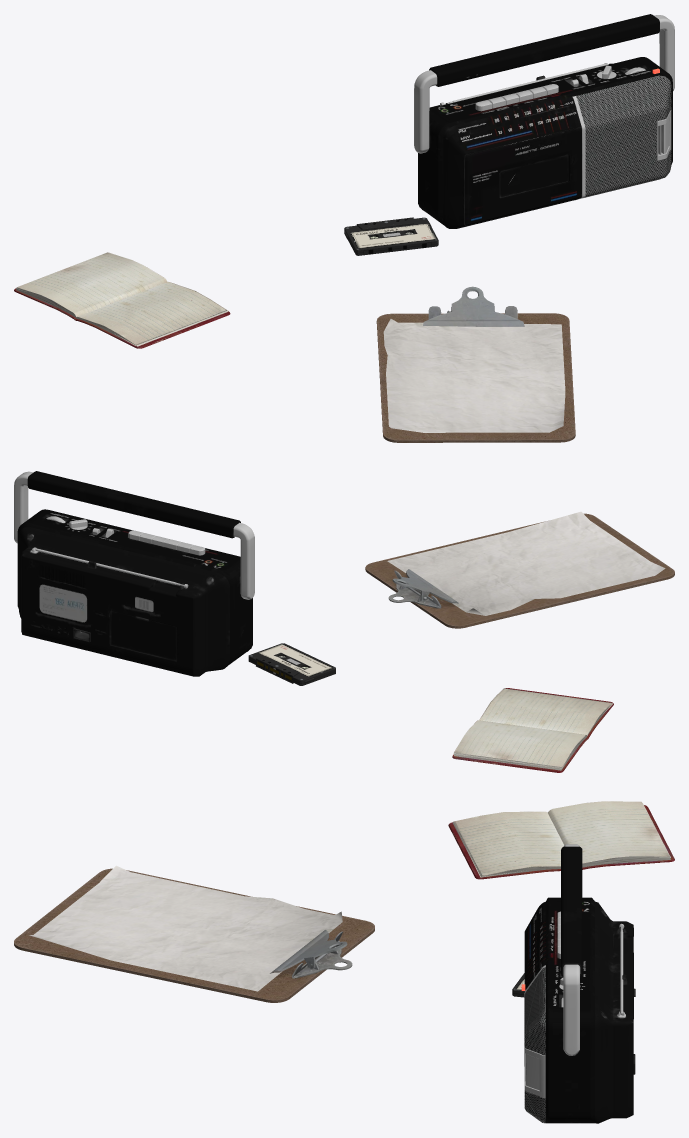
The model's file is chair_office_props.glb.
3 renders of one model, top to bottom at view 1: azimuth 30°, elevation 25°; view 2: azimuth 150°, elevation 25°; view 3: azimuth 270°, elevation 25°, orthographic. The views are drawn at different scales.
Visible parts, largest first — view 1: CHAIR_Recorder, CHAIR_Clipboard, CHAIR_Notebook, CHAIR_Cassette; view 2: CHAIR_Recorder, CHAIR_Clipboard, CHAIR_Notebook, CHAIR_Cassette; view 3: CHAIR_Clipboard, CHAIR_Recorder, CHAIR_Notebook.
Part boxes in pixels (bbox=[...]): CHAIR_Recorder: bbox=[414, 14, 674, 228]; CHAIR_Clipboard: bbox=[376, 286, 575, 442]; CHAIR_Notebook: bbox=[14, 252, 230, 348]; CHAIR_Cassette: bbox=[344, 217, 438, 255]; CHAIR_Recorder: bbox=[14, 471, 254, 676]; CHAIR_Clipboard: bbox=[365, 511, 674, 628]; CHAIR_Notebook: bbox=[452, 688, 613, 772]; CHAIR_Cassette: bbox=[248, 643, 335, 685]; CHAIR_Clipboard: bbox=[14, 865, 374, 1002]; CHAIR_Recorder: bbox=[524, 844, 635, 1123]; CHAIR_Notebook: bbox=[448, 801, 674, 879].
Size of the model in its own units: 0.8485 by 0.1971 by 0.7202.
Materials: 5 (4 with a texture image).
